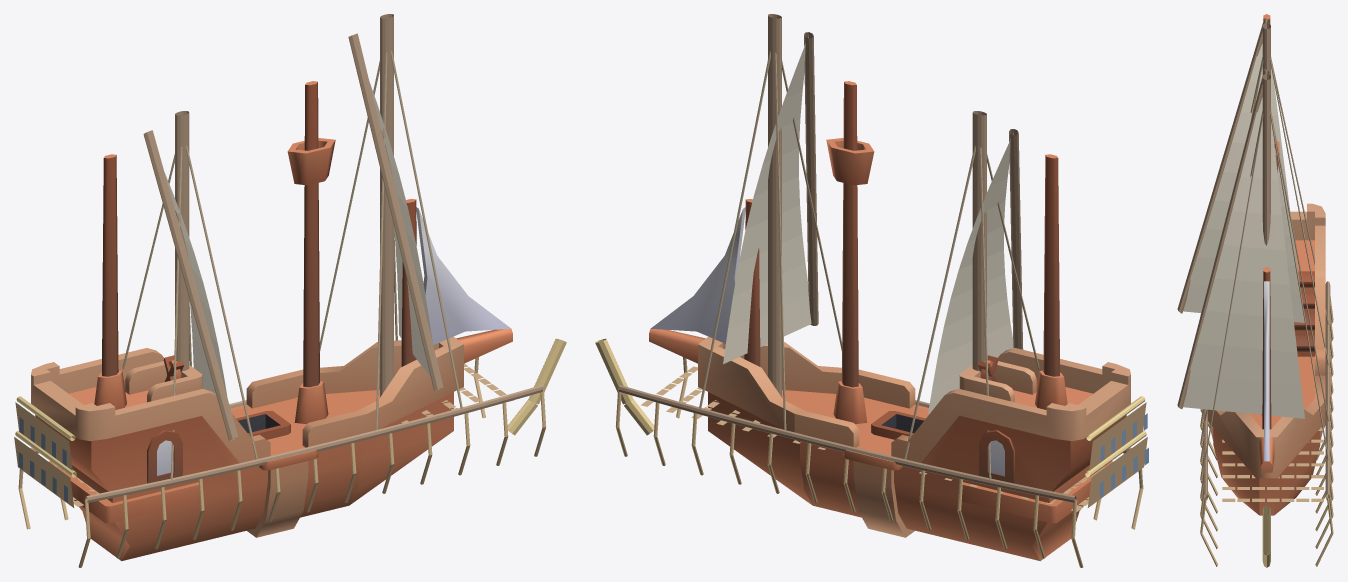
Rendered from zanzibar_dhow-custom.glb.
The picture shows the model from 3 angles, left to right: view 1: azimuth 30°, elevation 25°; view 2: azimuth 150°, elevation 25°; view 3: azimuth 270°, elevation 25°; orthographic projection. The views are drawn at different scales.
Parts seen in each view (by area): view 1: ship-medium, zanzibar_dhow-custom-geometry; view 2: ship-medium, zanzibar_dhow-custom-geometry; view 3: zanzibar_dhow-custom-geometry, ship-medium.
Part boxes in pixels (x1=…): ship-medium: x1=31, y1=81, x2=512, y2=561; zanzibar_dhow-custom-geometry: x1=14, y1=14, x2=566, y2=567; ship-medium: x1=649, y1=81, x2=1130, y2=561; zanzibar_dhow-custom-geometry: x1=595, y1=14, x2=1148, y2=567; zanzibar_dhow-custom-geometry: x1=1177, y1=18, x2=1333, y2=567; ship-medium: x1=1208, y1=14, x2=1330, y2=515.
Size of the model in its own units: 40.7 by 35 by 10.91.
Materials: 8 (1 with a texture image).
